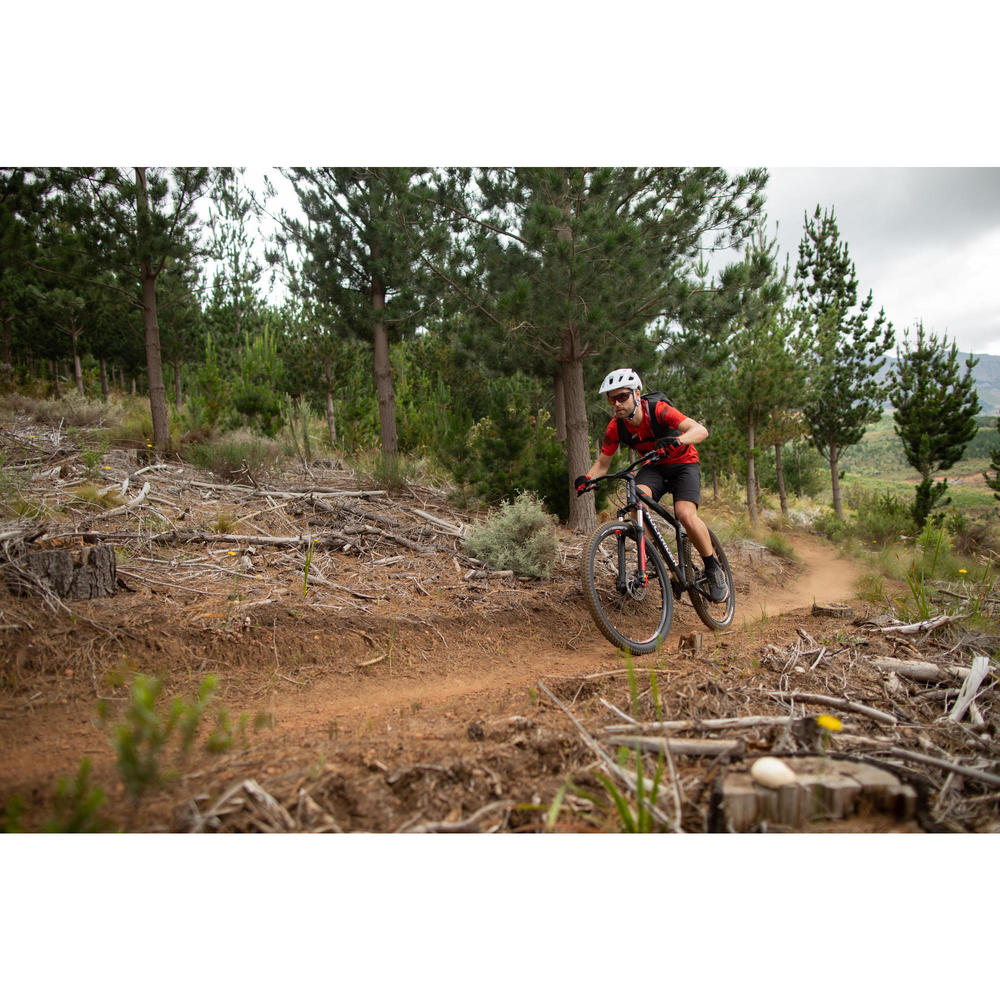MountainBike: (564, 433, 747, 657)
